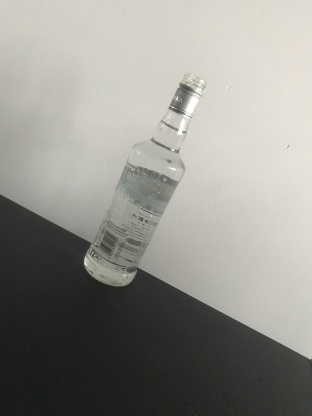nakretka: (166, 69, 207, 120)
